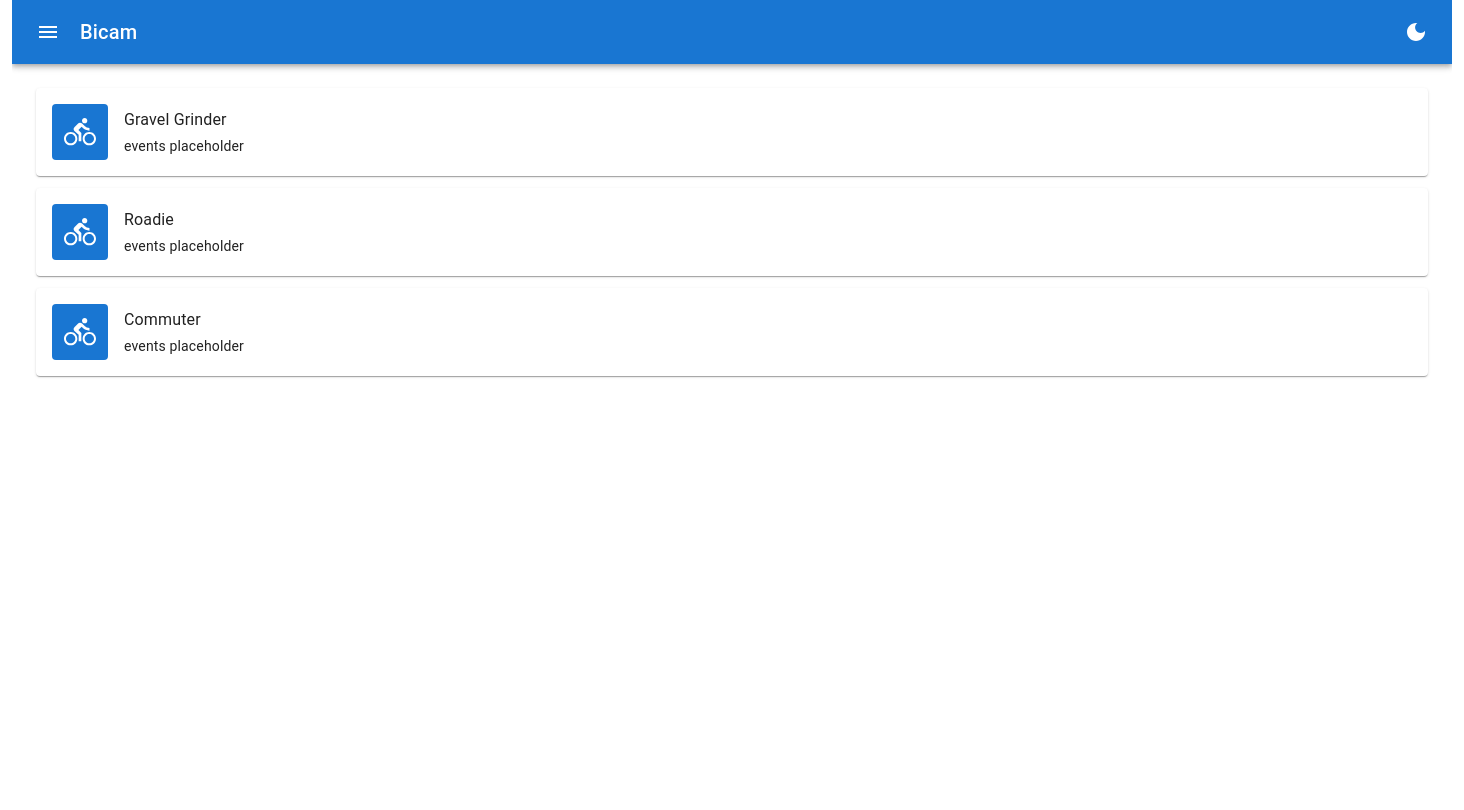
it: App › replaces the bicycle list with the chosen menu screen
The width and height of the screenshot is (1464, 810).
Click the button named "Open menu".
click(48, 32)  # box [24, 8, 72, 56]
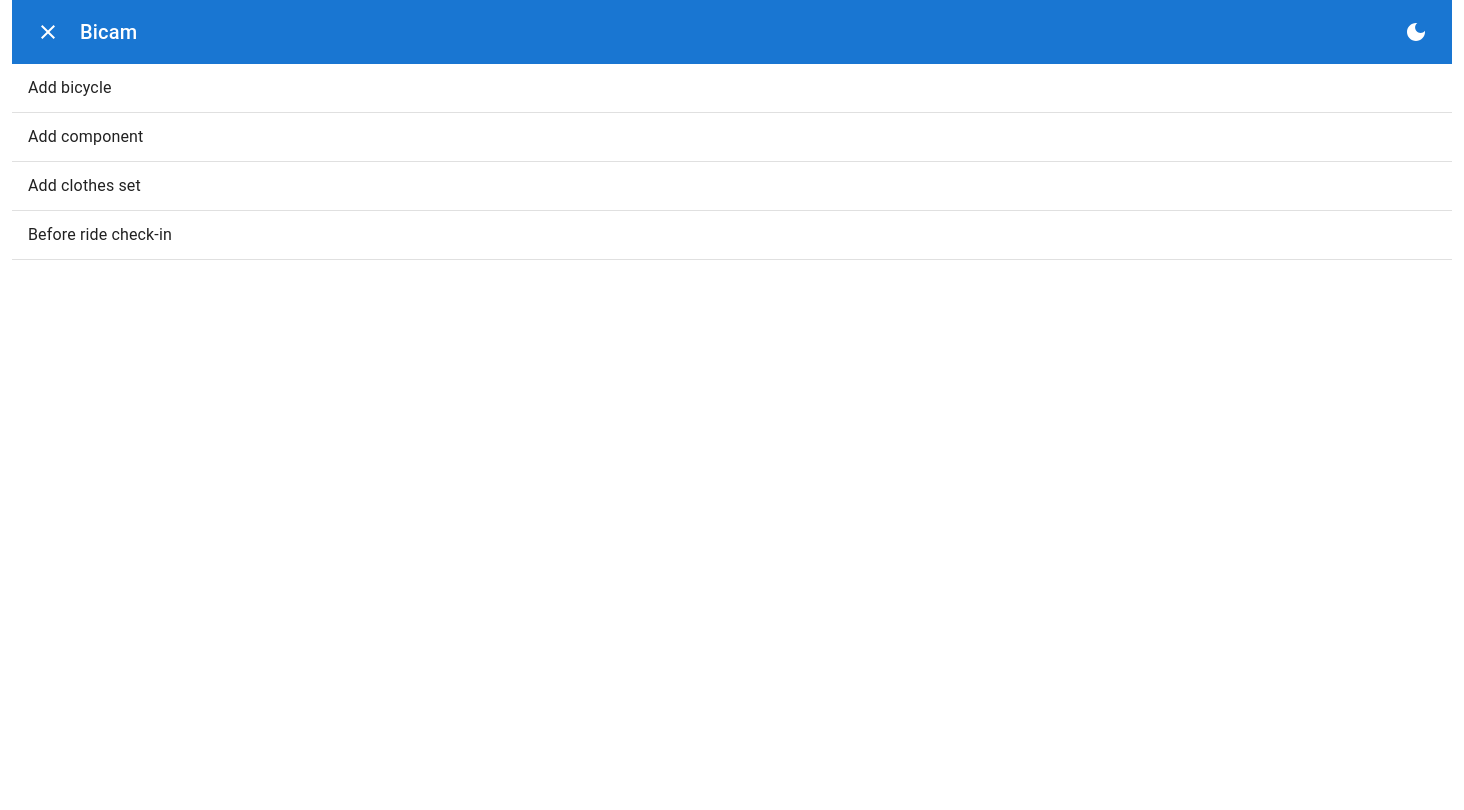
Click the button "Add bicycle".
click(70, 88)  # box [12, 64, 1452, 112]
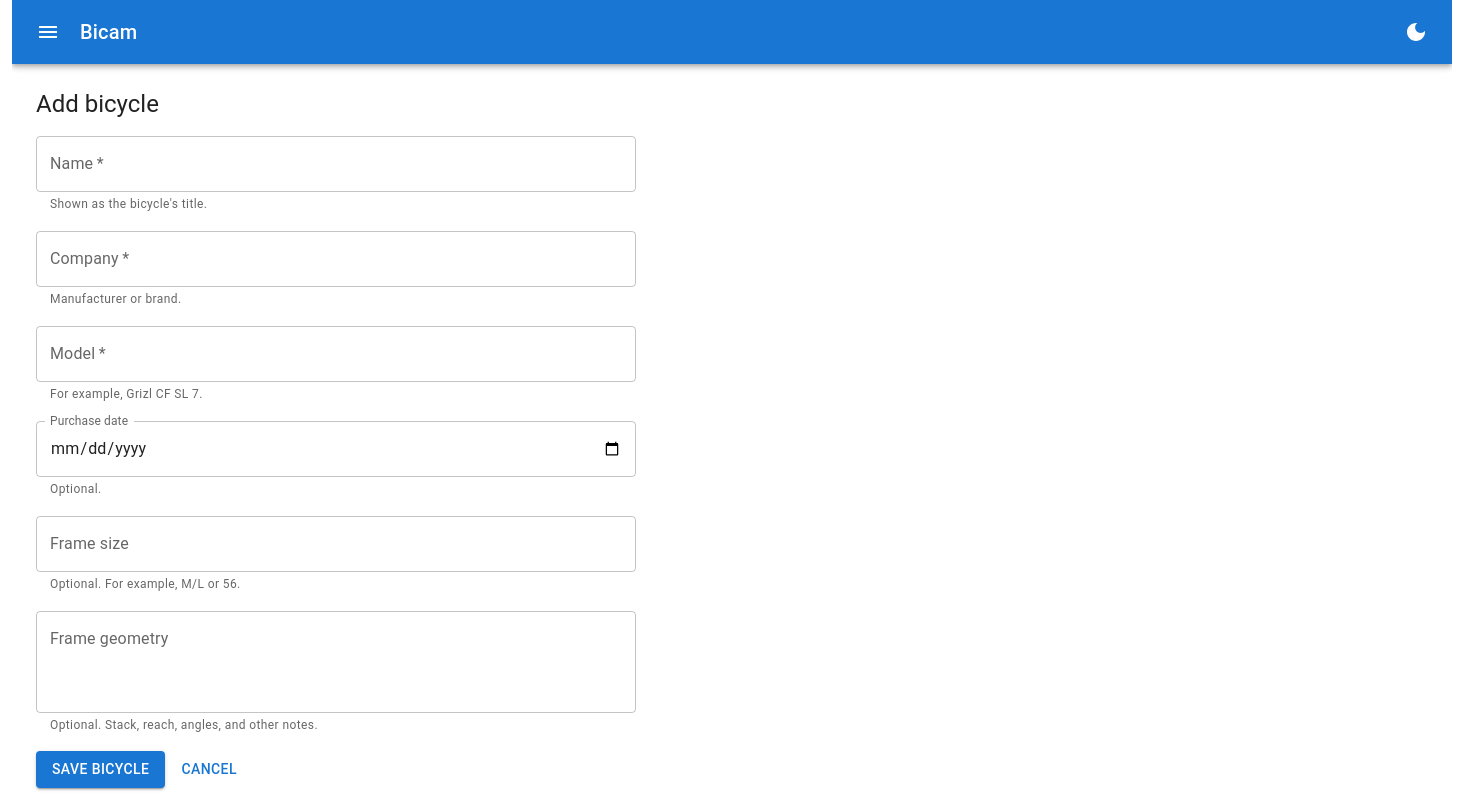
Expected: the heading "Add bicycle" is shown, [36, 90, 159, 118]
Expected: the list "Bicycles" is gone
